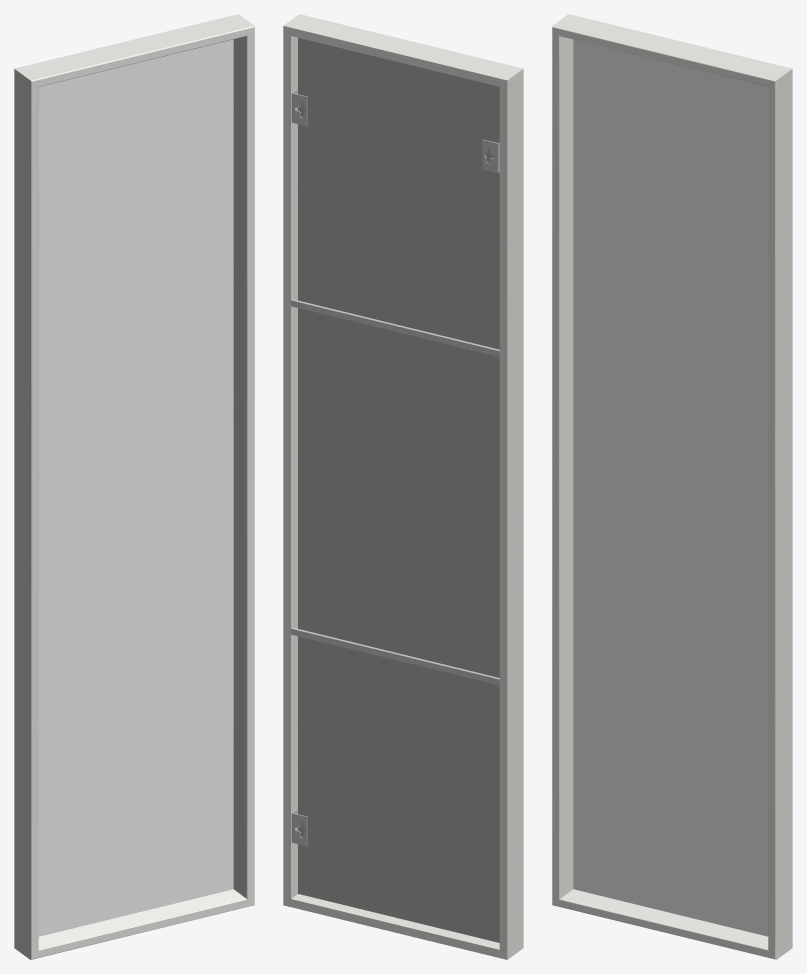
File: nissedal_lustro_30320316.glb
3 views of the same model, side by side, from view 1: azimuth 30°, elevation 25°; view 2: azimuth 150°, elevation 25°; view 3: azimuth 330°, elevation 25° (orthographic).
Visible parts, largest first — view 1: nissedal_lustro_30320316; view 2: nissedal_lustro_30320316; view 3: nissedal_lustro_30320316.
Part boxes in pixels (box(x1,y1,x2,y2)): nissedal_lustro_30320316: box(14, 14, 254, 959); nissedal_lustro_30320316: box(283, 14, 523, 959); nissedal_lustro_30320316: box(552, 14, 792, 959).
Size of the model in its own units: 0.4 by 1.5 by 0.053.
1 material, 1 textured.
